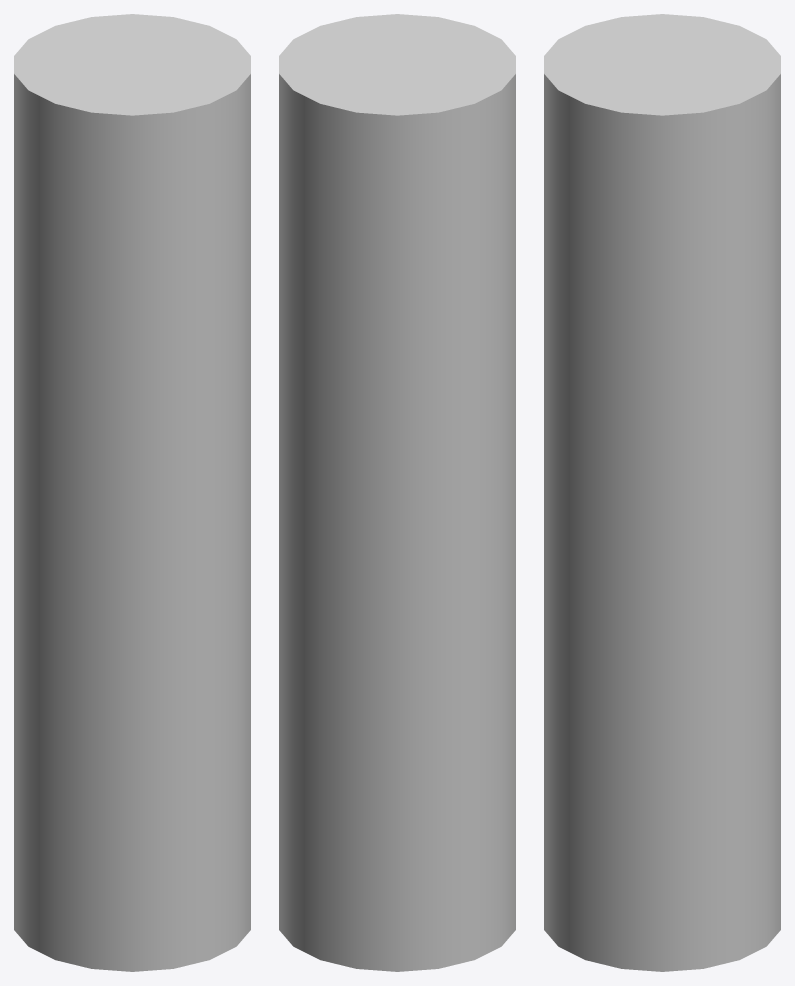
File: fbx_restaurant_coulmn.fbx
3 views of the same model, side by side, from view 1: azimuth 30°, elevation 25°; view 2: azimuth 150°, elevation 25°; view 3: azimuth 270°, elevation 25° (orthographic).
Visible parts, largest first — view 1: fbx_restaurant_coulmn; view 2: fbx_restaurant_coulmn; view 3: fbx_restaurant_coulmn.
Part boxes in pixels (left/top/right/bottom): fbx_restaurant_coulmn: left=14, top=14, right=250, bottom=971; fbx_restaurant_coulmn: left=279, top=14, right=515, bottom=971; fbx_restaurant_coulmn: left=544, top=14, right=780, bottom=971.
Size of the model in its own units: 1.7 by 6.67 by 1.67.
1 material, 1 textured.
